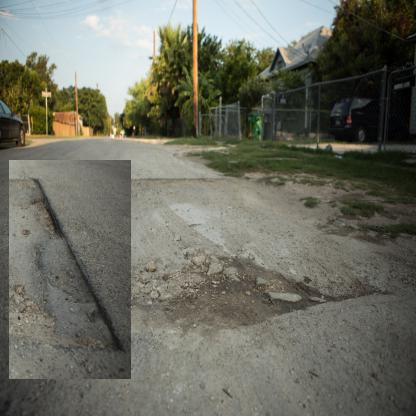damage: (8, 160, 131, 380), (120, 229, 321, 359)
